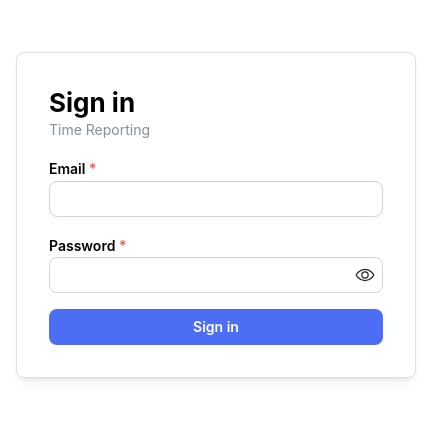
Test: signing in › shows an error for incorrect credentials
Expected: the heading "Sign in" is shown, [49,86,135,118]
Type "ada@example.com" into the field labelled "Email *".
click(216, 199); type("ada@example.com")  # box [49,181,383,217]
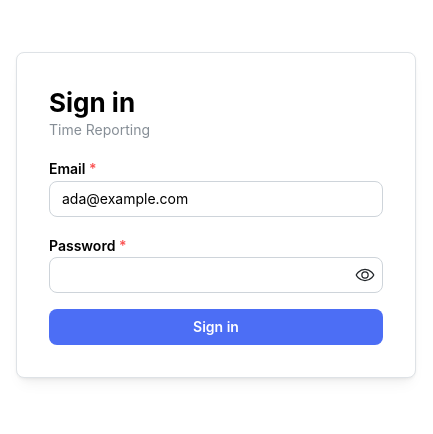
Type "wrong-password" into the password field labelled "Password *".
click(216, 276); type("wrong-password")  # box [50,258,382,292]
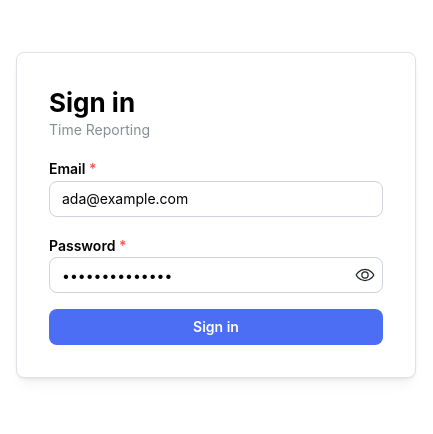
Click the button "Sign in".
click(216, 328)  # box [49,310,383,346]
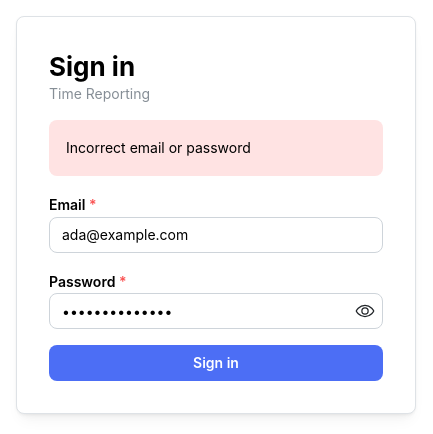
Now the text "Incorrect email or password" is shown, box [66,139,251,156]
